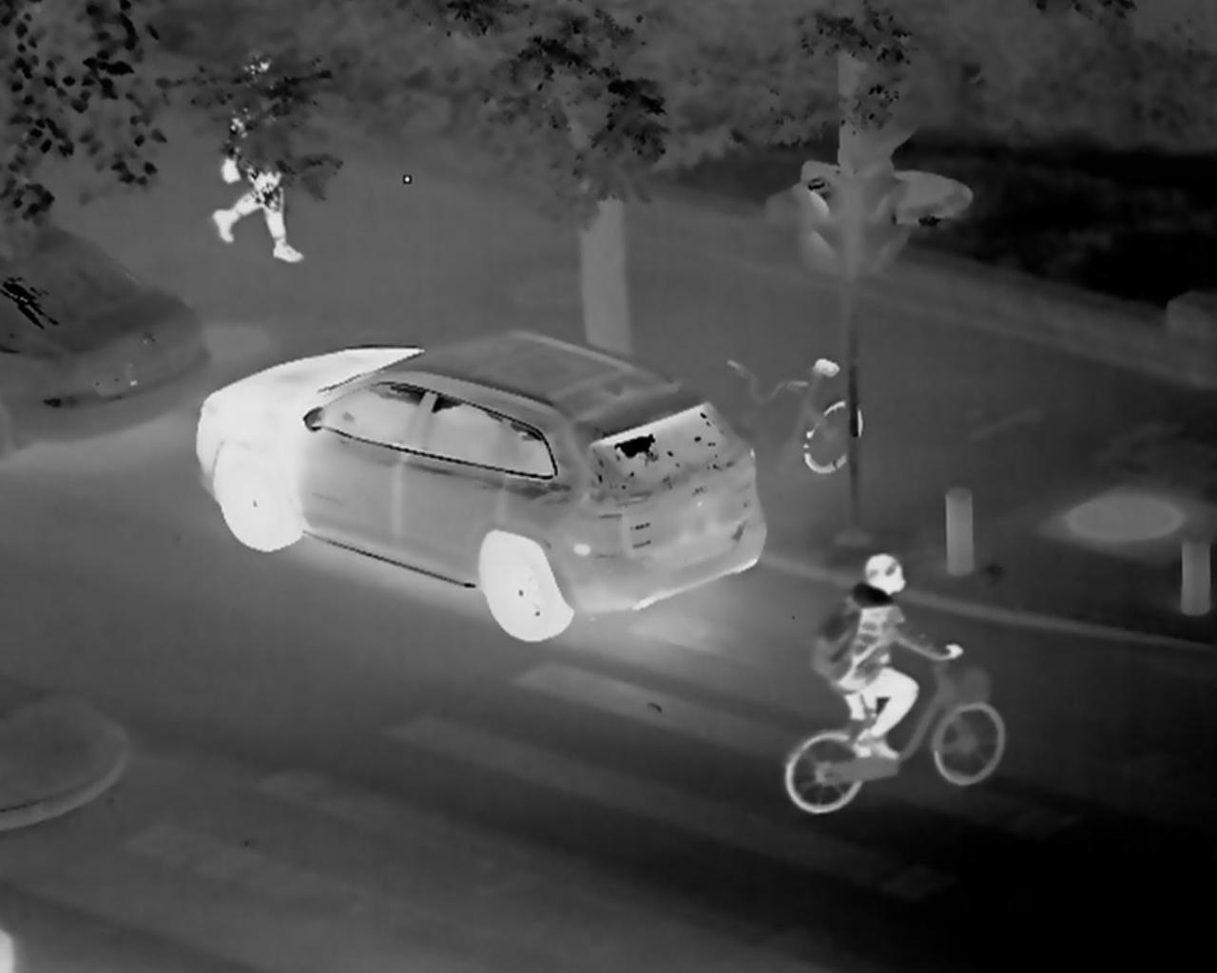person: (812, 553, 967, 777), (211, 30, 303, 264)
